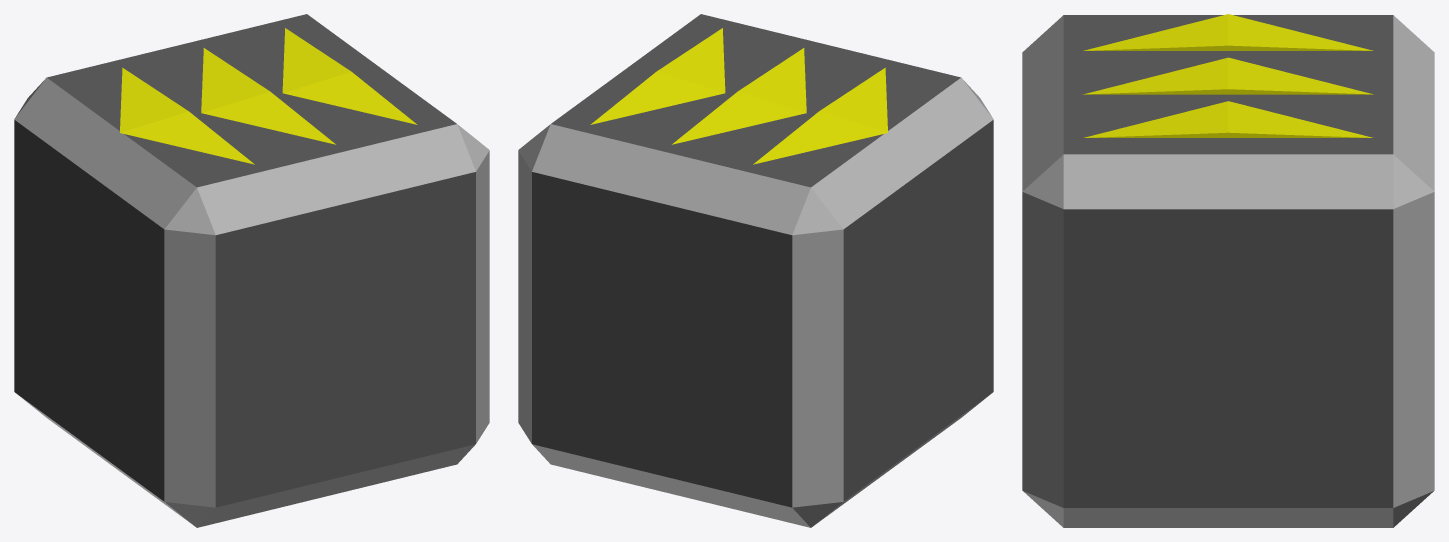
The model's file is Block_Converyor.fbx.
3 renders of one model, left to right at view 1: azimuth 30°, elevation 25°; view 2: azimuth 150°, elevation 25°; view 3: azimuth 270°, elevation 25°, orthographic. The views are drawn at different scales.
Parts seen in each view (by area): view 1: pPyramid4; view 2: pPyramid4; view 3: pPyramid4.
Part boxes in pixels (x1,y1,x2,y2): pPyramid4: (14, 14, 489, 527); pPyramid4: (518, 14, 993, 527); pPyramid4: (1022, 14, 1434, 527).
Bounding box in the file's own units: 1 × 1.01 × 1.
